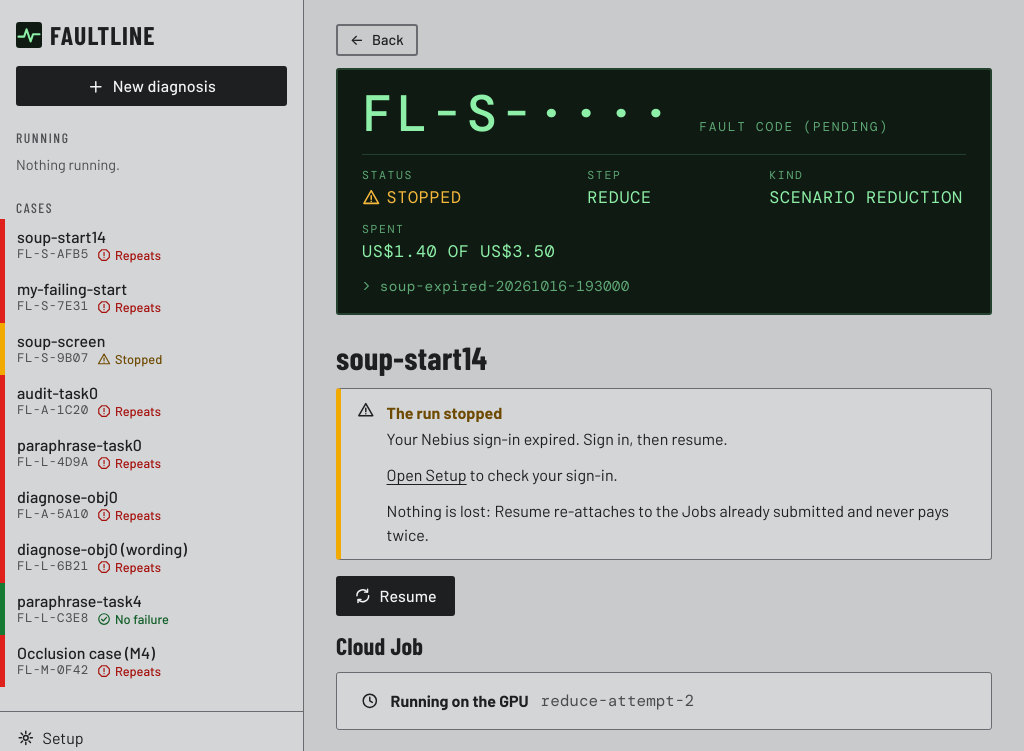
other run states › keeps watching the same run after Resume, as the server continues the same folder
Click the button "Resume" at (395, 596), box [336,576,455,616]
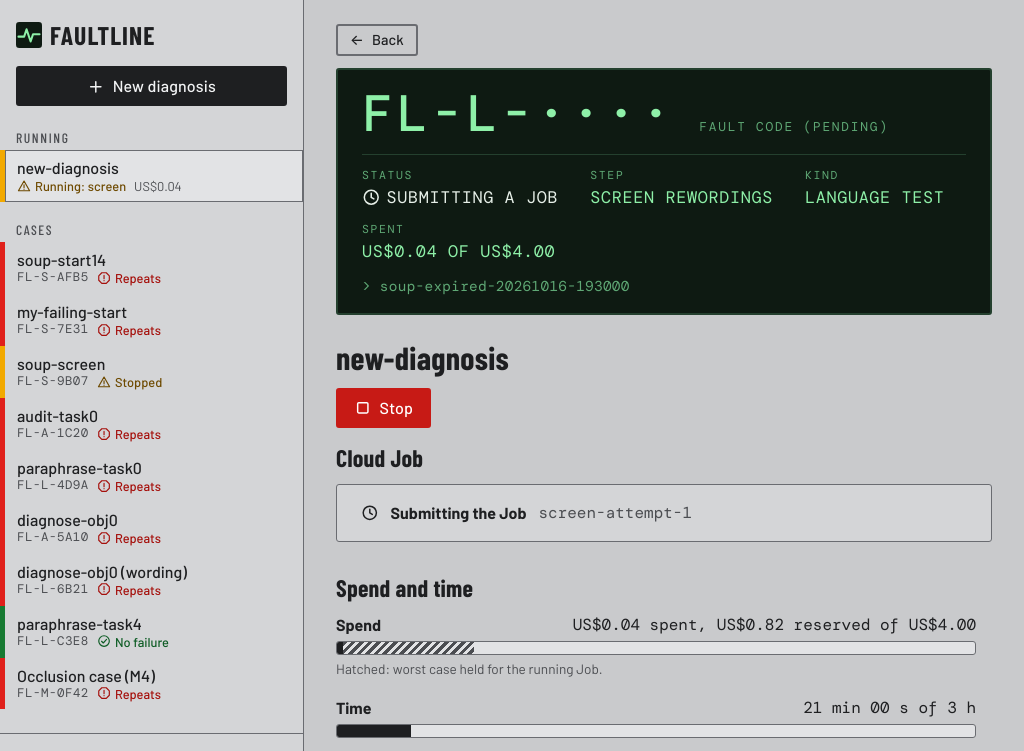
Now the heading "new-diagnosis" is shown, box [336,338,509,376]
Now the text "resume" is gone
Now the button "Stop" is shown, box [336,388,431,428]
